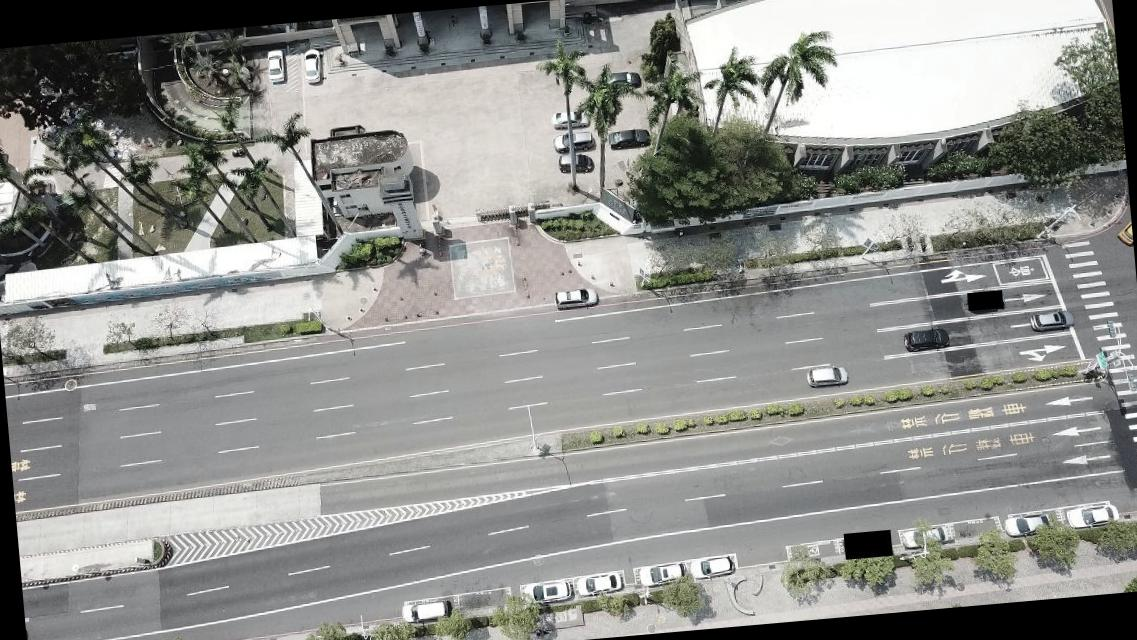vehicle: (1063, 502, 1119, 528), (900, 524, 953, 550), (575, 570, 621, 598), (1002, 512, 1052, 537), (902, 327, 950, 353), (522, 581, 571, 606), (552, 286, 598, 312), (638, 560, 684, 586), (399, 600, 448, 624), (1028, 309, 1074, 332), (689, 554, 734, 576), (596, 70, 641, 92), (264, 46, 288, 85), (807, 366, 848, 387), (302, 48, 324, 86), (608, 128, 649, 148), (552, 130, 592, 150), (551, 108, 589, 128), (558, 152, 594, 172)
